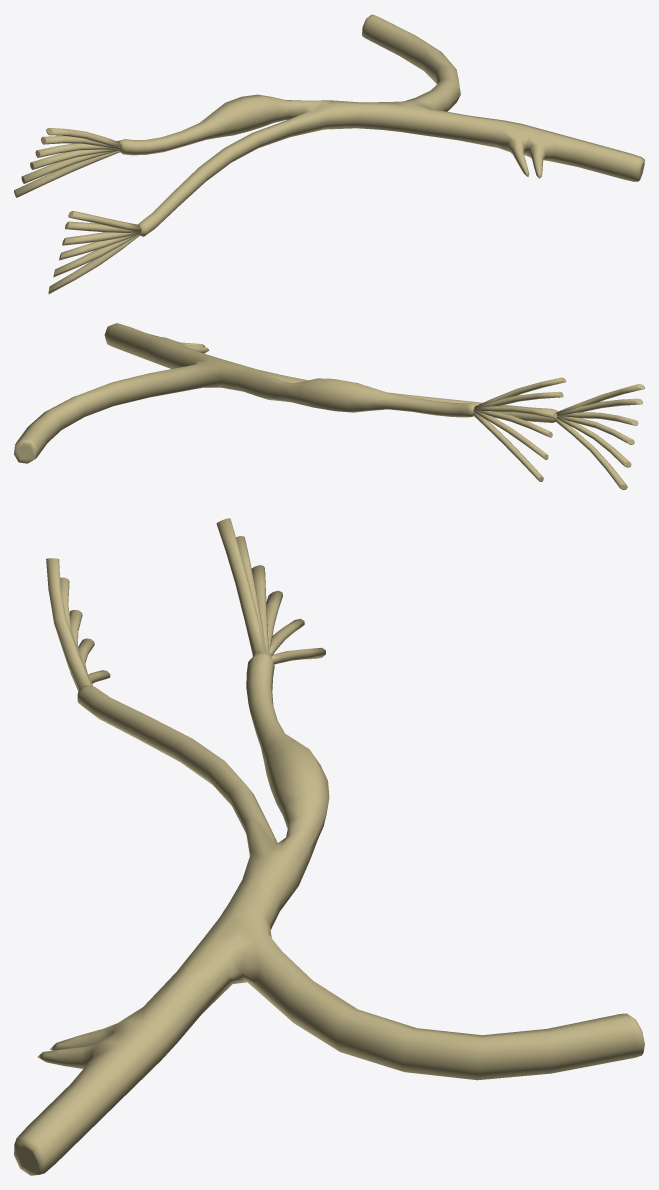
File: Nerves_r9.FBX
3 views of the same model, one above another, from view 1: azimuth 30°, elevation 25°; view 2: azimuth 150°, elevation 25°; view 3: azimuth 270°, elevation 25° (orthographic). The views are drawn at different scales.
Parts seen in each view (by area): view 1: Nerves_R9; view 2: Nerves_R9; view 3: Nerves_R9.
Boxes of the visible parts, box(x1,y1,x2,y2) form: Nerves_R9: box(14, 14, 644, 294); Nerves_R9: box(14, 323, 644, 489); Nerves_R9: box(14, 518, 644, 1175).
Size of the model in its own units: 0.0353 by 0.00815 by 0.0203.
